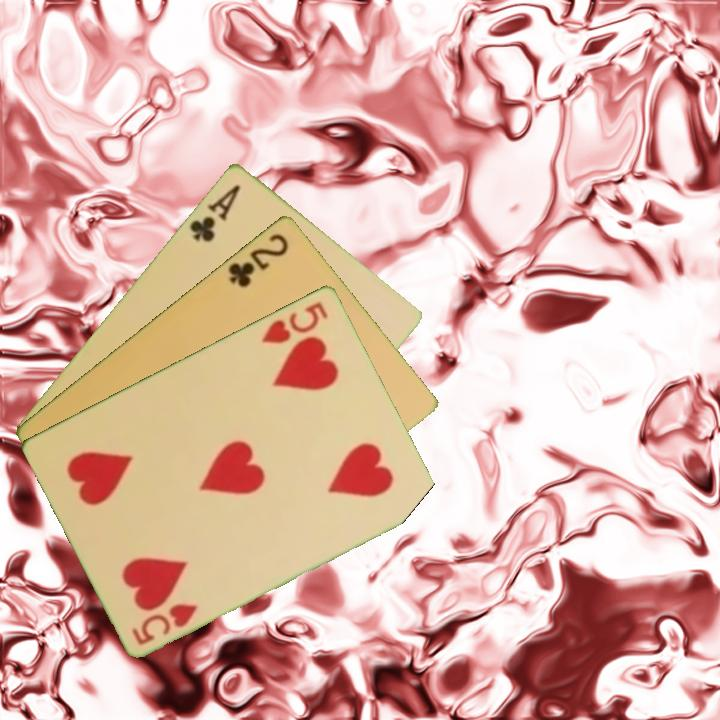2c: (224, 229, 292, 290)
5h: (258, 297, 332, 346), (128, 599, 201, 647)
Ac: (186, 180, 244, 245)
